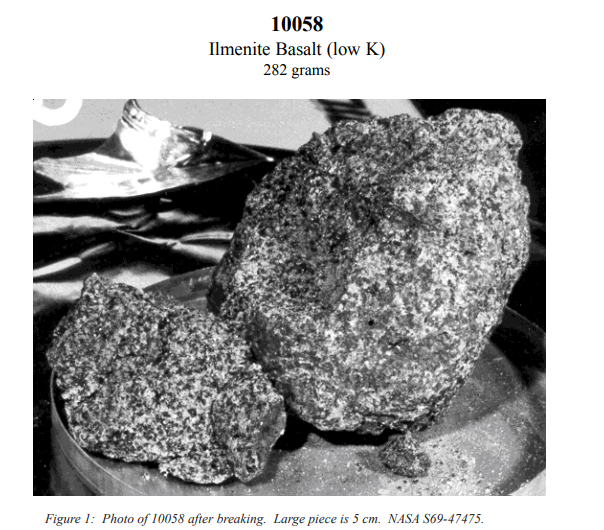Basalt: (202, 110, 545, 440), (56, 256, 285, 483)
